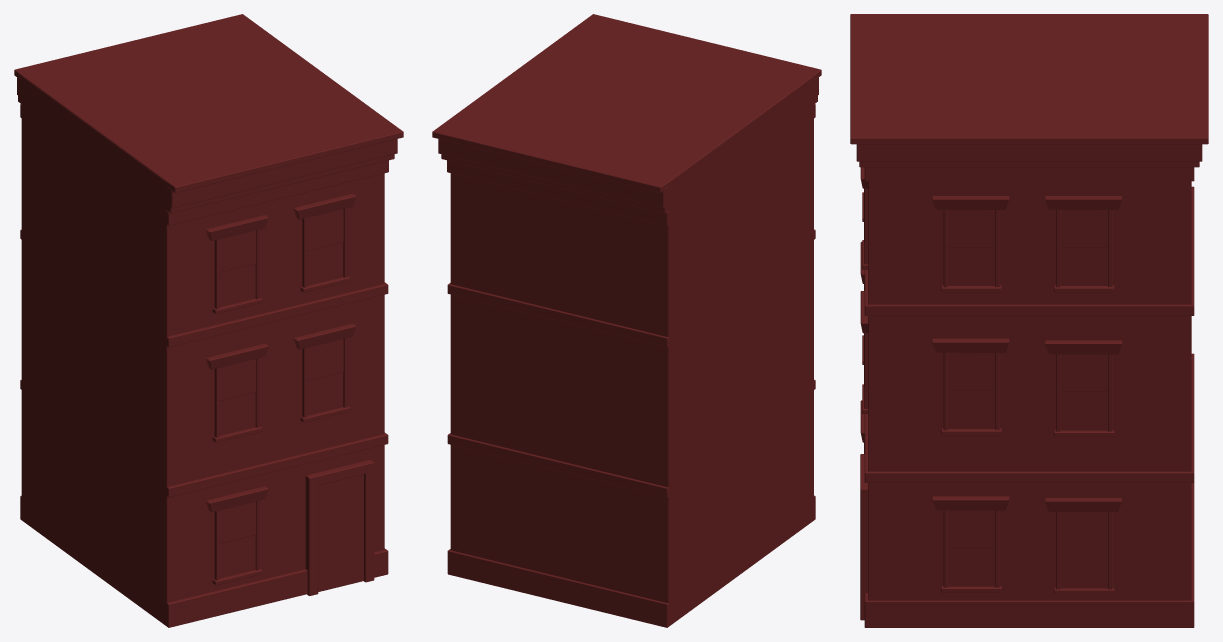
The model's file is AS_Building_Corner_L.FBX.
The picture shows the model from 3 angles, left to right: view 1: azimuth 30°, elevation 25°; view 2: azimuth 150°, elevation 25°; view 3: azimuth 270°, elevation 25°; orthographic projection. The views are drawn at different scales.
Parts seen in each view (by area): view 1: Main_L, Top_L, Window_Pane_L, Decor_L, Window_L, Door_L, Door_Frame_L; view 2: Main_L, Top_L, Decor_L; view 3: Main_L, Top_L, Window_Pane_L, Decor_L, Window_L, Door_Frame_L.
Part boxes in pixels (left/top/right/bottom): Main_L: left=21, top=76, right=384, bottom=624; Top_L: left=14, top=14, right=403, bottom=225; Window_Pane_L: left=219, top=209, right=343, bottom=578; Decor_L: left=20, top=229, right=388, bottom=627; Window_L: left=206, top=193, right=356, bottom=585; Door_L: left=318, top=474, right=363, bottom=591; Door_Frame_L: left=305, top=460, right=374, bottom=595; Main_L: left=450, top=76, right=813, bottom=624; Top_L: left=432, top=14, right=821, bottom=225; Decor_L: left=447, top=229, right=815, bottom=627; Main_L: left=868, top=181, right=1191, bottom=600; Top_L: left=850, top=14, right=1208, bottom=181; Window_Pane_L: left=948, top=210, right=1107, bottom=588; Decor_L: left=864, top=186, right=1194, bottom=627; Window_L: left=860, top=167, right=1121, bottom=594; Door_Frame_L: left=860, top=454, right=868, bottom=620.
Bounding box in the file's own units: 471 × 876 × 573.
